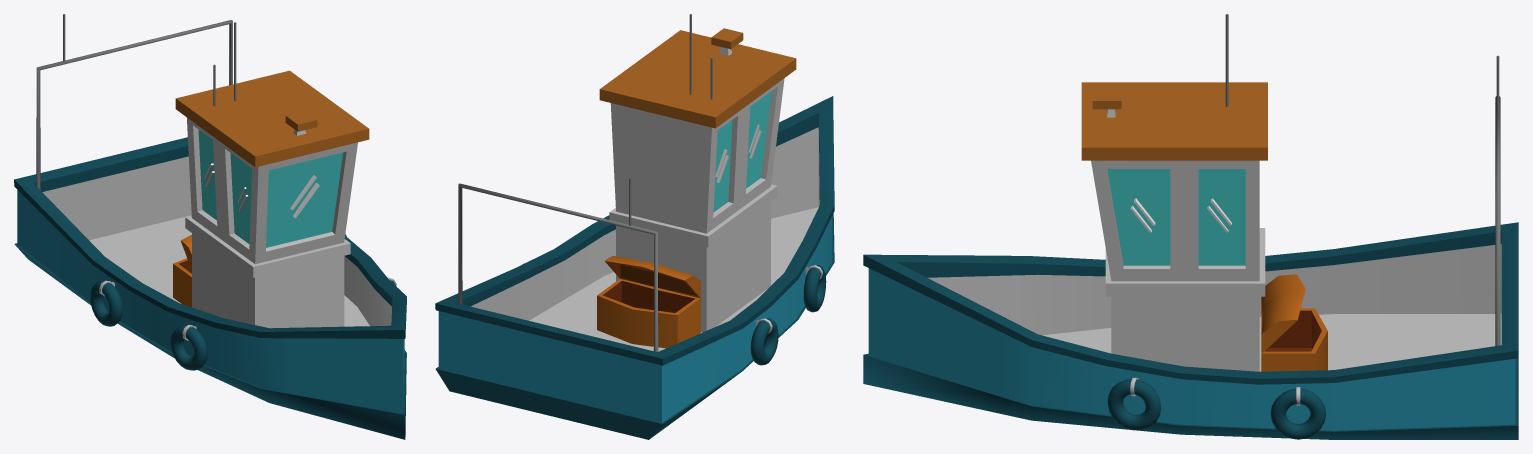
File: Boat_LP_FBX (2).FBX
The picture shows the model from 3 angles, left to right: view 1: azimuth 30°, elevation 25°; view 2: azimuth 150°, elevation 25°; view 3: azimuth 270°, elevation 25°; orthographic projection. The views are drawn at different scales.
Visible parts, largest first — view 1: Boat_LP, lifebuoys_LP, Pole_LP, Chest_bottom_LP, Windows_LP, Radar_LP, Antennas_LP; view 2: Boat_LP, Chest_bottom_LP, lifebuoys_LP, Pole_LP, Chest_top_LP, Radar_LP, Antennas_LP, Windows_LP; view 3: Boat_LP, lifebuoys_LP, Chest_bottom_LP, Chest_top_LP, Pole_LP, Radar_LP.
Boxes of the visible parts, left/top/right/bottom form: Boat_LP: left=14, top=70, right=406, bottom=439; lifebuoys_LP: left=90, top=234, right=396, bottom=370; Pole_LP: left=36, top=20, right=232, bottom=189; Chest_bottom_LP: left=173, top=258, right=191, bottom=307; Windows_LP: left=204, top=163, right=319, bottom=218; Radar_LP: left=285, top=111, right=317, bottom=135; Antennas_LP: left=63, top=14, right=236, bottom=106; Boat_LP: left=435, top=30, right=834, bottom=439; Chest_bottom_LP: left=597, top=278, right=700, bottom=348; lifebuoys_LP: left=522, top=263, right=826, bottom=365; Pole_LP: left=458, top=183, right=658, bottom=351; Chest_top_LP: left=605, top=256, right=700, bottom=298; Radar_LP: left=711, top=28, right=743, bottom=55; Antennas_LP: left=629, top=14, right=712, bottom=225; Windows_LP: left=715, top=125, right=761, bottom=182; Boat_LP: left=863, top=82, right=1518, bottom=439; lifebuoys_LP: left=1107, top=377, right=1325, bottom=439; Chest_bottom_LP: left=1261, top=308, right=1327, bottom=371; Chest_top_LP: left=1261, top=274, right=1305, bottom=352; Pole_LP: left=1495, top=96, right=1500, bottom=345; Radar_LP: left=1092, top=90, right=1121, bottom=117.
Bounding box in the file's own units: 23.49 × 28.18 × 46.42.
